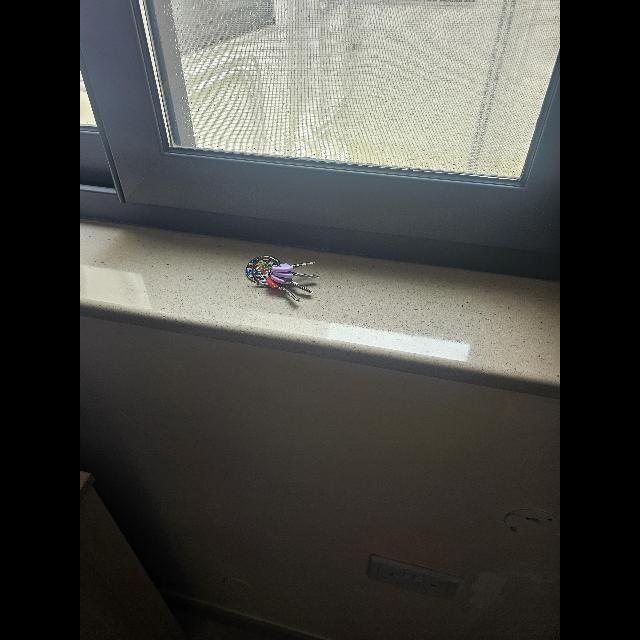Keys: (245, 256, 317, 304)
